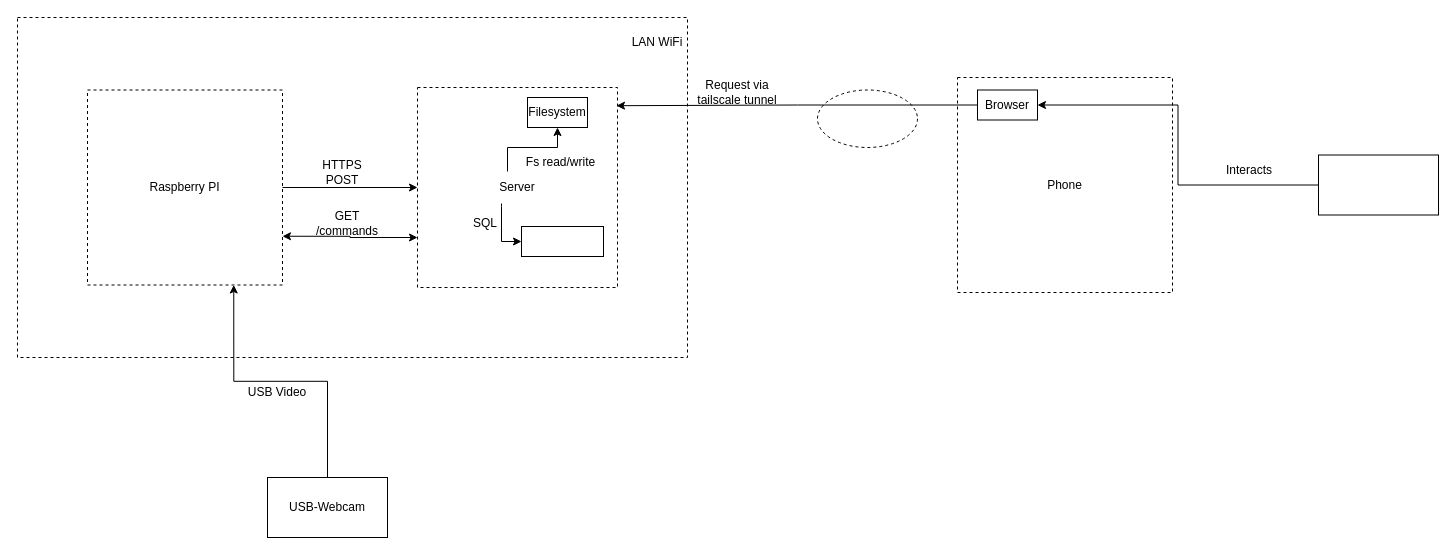
The diagram is 1456 pixels wide and 555 high, and some of its shapes have lost their labels. Each missing label, with the centre of its shape:
DB(Metadata): the point at 562,241
End-user: the point at 1378,184
Internet: the point at 867,118
